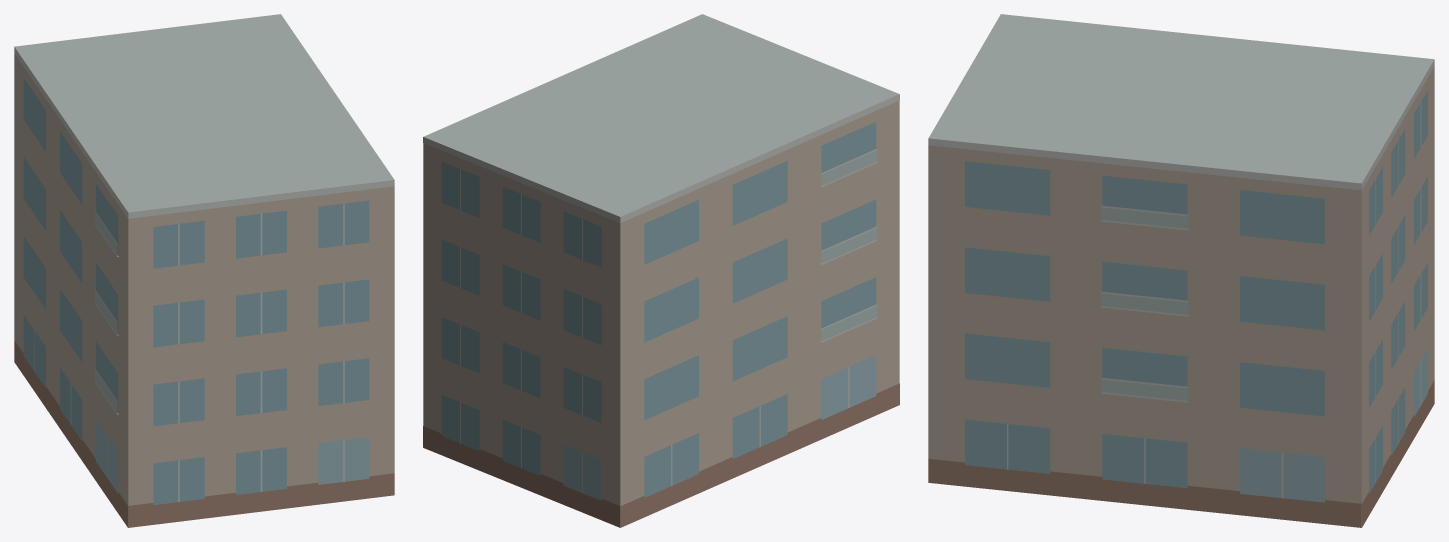
Rendered from residential-46a4ece3-a113-4cd6-b949-ce09662a4296.glb.
3 renders of one model, left to right at view 1: azimuth 30°, elevation 25°; view 2: azimuth 150°, elevation 25°; view 3: azimuth 270°, elevation 25°, orthographic. The views are drawn at different scales.
Visible parts, largest first — view 1: residential-46a4ece3-a113-4cd6-b949-ce09662a4296.tmp; view 2: residential-46a4ece3-a113-4cd6-b949-ce09662a4296.tmp; view 3: residential-46a4ece3-a113-4cd6-b949-ce09662a4296.tmp.
Boxes of the visible parts, bbox=[...] form: residential-46a4ece3-a113-4cd6-b949-ce09662a4296.tmp: bbox=[14, 14, 394, 527]; residential-46a4ece3-a113-4cd6-b949-ce09662a4296.tmp: bbox=[423, 14, 899, 527]; residential-46a4ece3-a113-4cd6-b949-ce09662a4296.tmp: bbox=[928, 14, 1434, 527].
Bounding box in the file's own units: 12.89 × 12.2 × 16.26.
